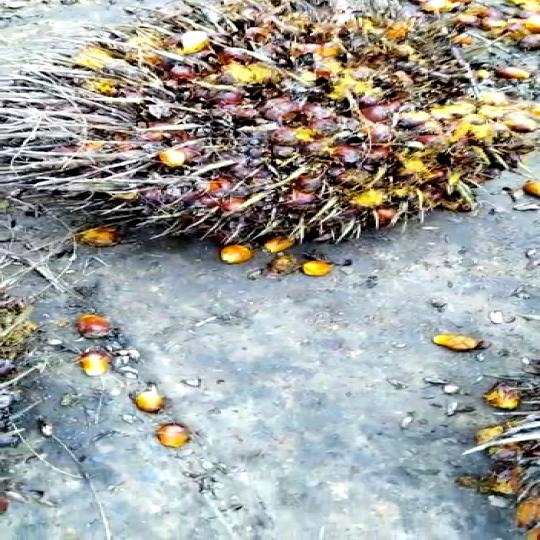terlalu masak: (0, 0, 540, 277)
